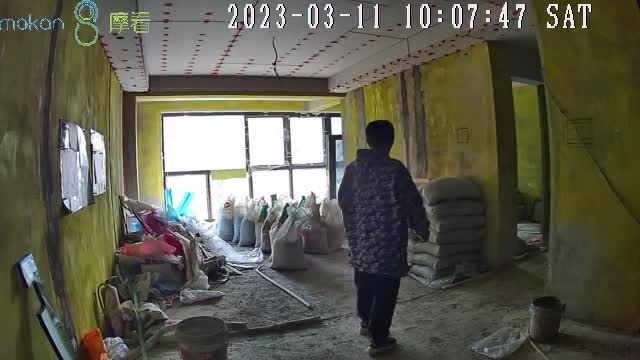people: (337, 120, 431, 356)
window: (161, 112, 344, 216)
